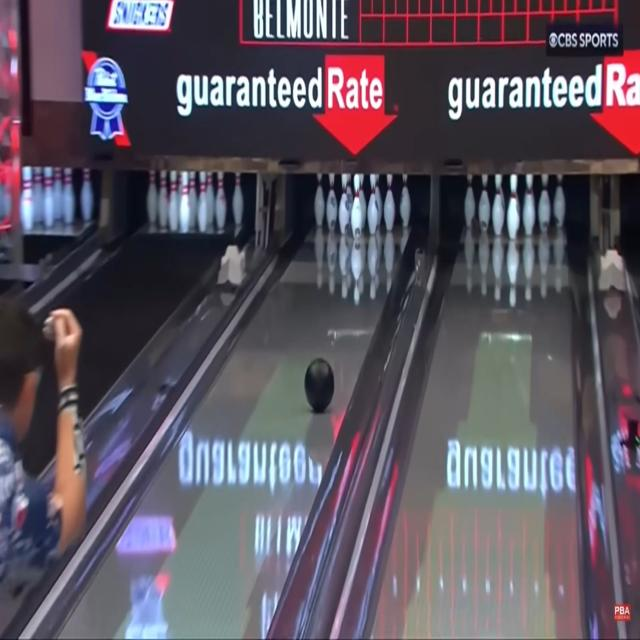alley: (62, 232, 400, 638)
balls: (304, 357, 334, 413)
bottle: (308, 168, 414, 239)
